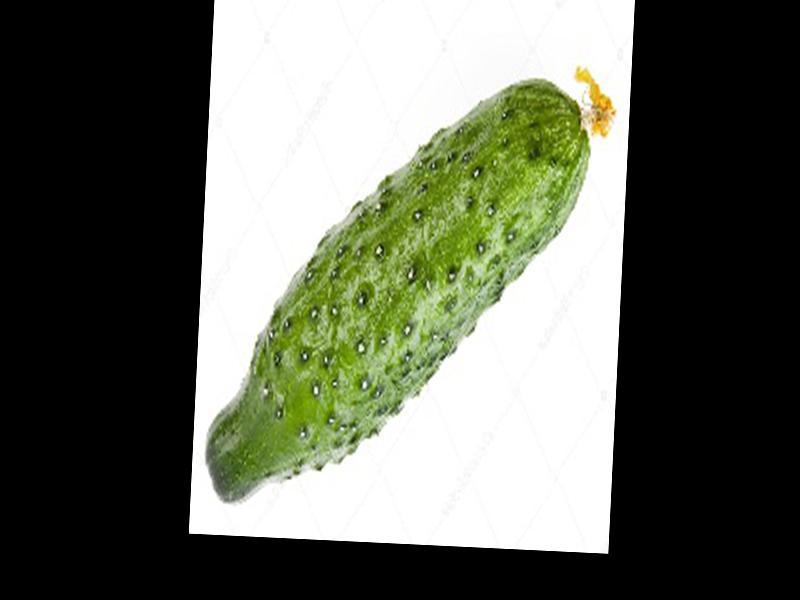Cucumber: (205, 51, 617, 521)
